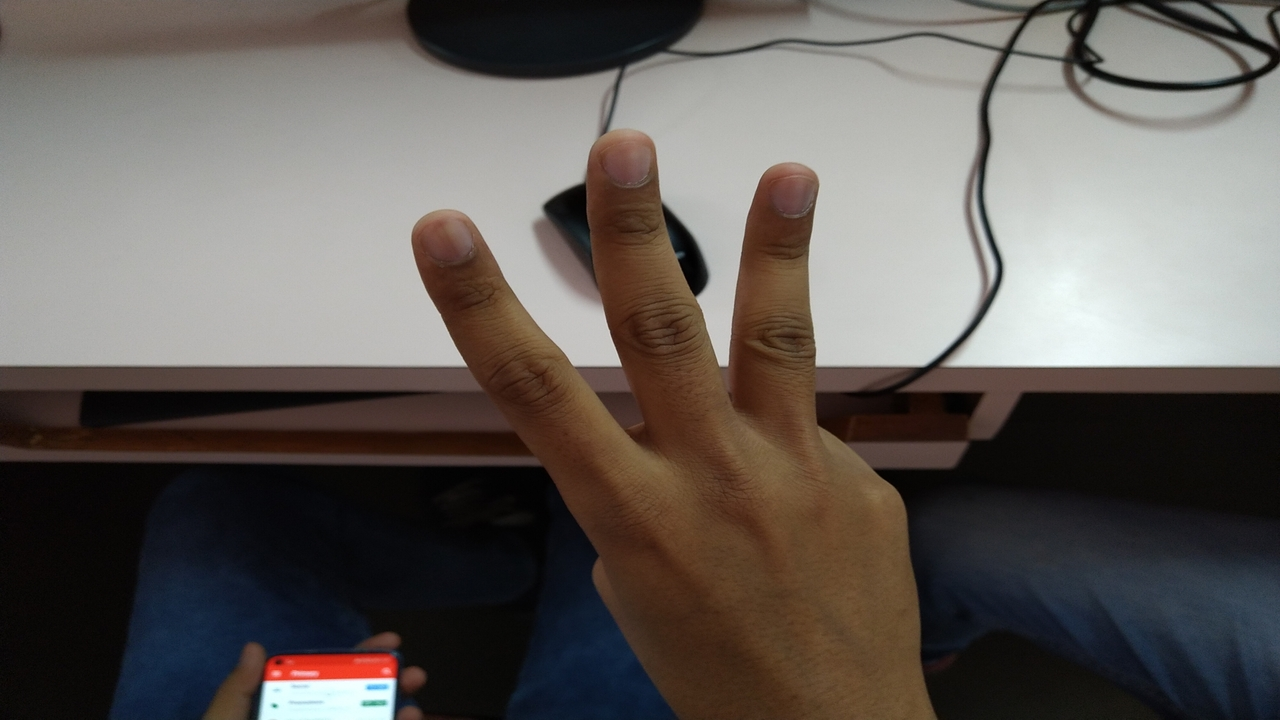fingertip: (750, 158, 824, 226), (404, 208, 476, 274), (594, 132, 662, 188)
